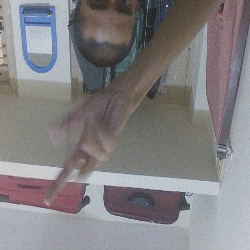hand: (39, 89, 136, 210)
